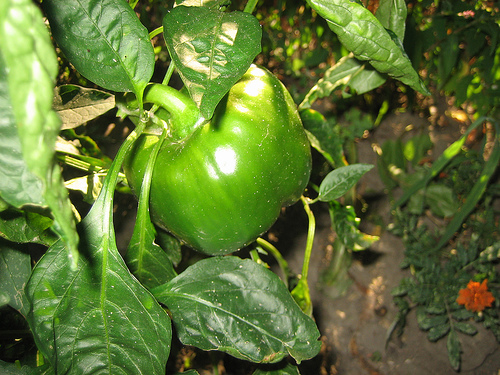capsicum: (124, 63, 311, 255)
